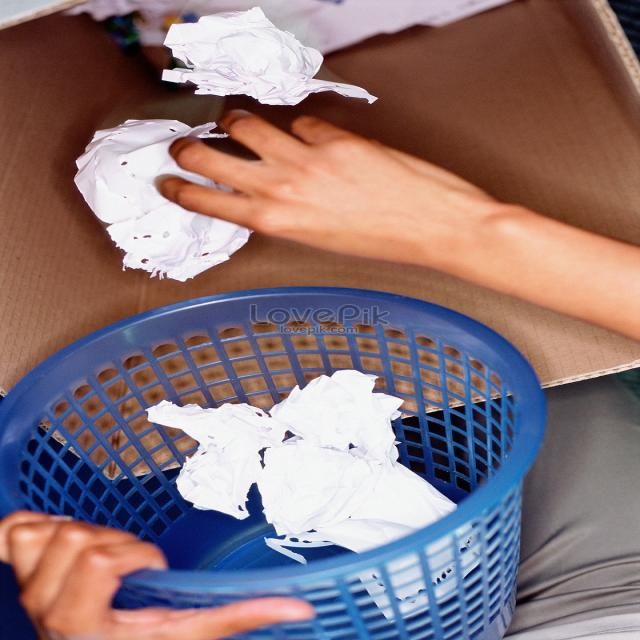Paper -Biodegradable-: (150, 367, 458, 548), (78, 118, 245, 273), (159, 8, 369, 106)
